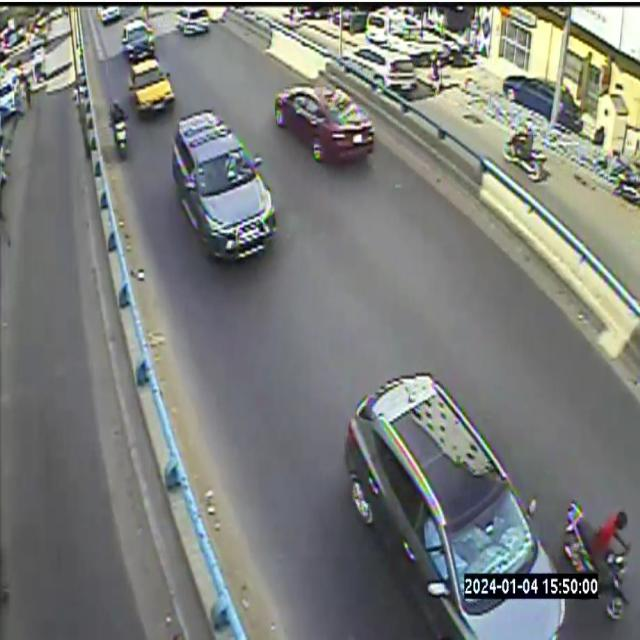car: (344, 373, 570, 639), (172, 110, 276, 259), (274, 85, 375, 162), (343, 45, 417, 92), (129, 57, 174, 113), (122, 20, 154, 63), (177, 7, 209, 35), (98, 5, 121, 25)
